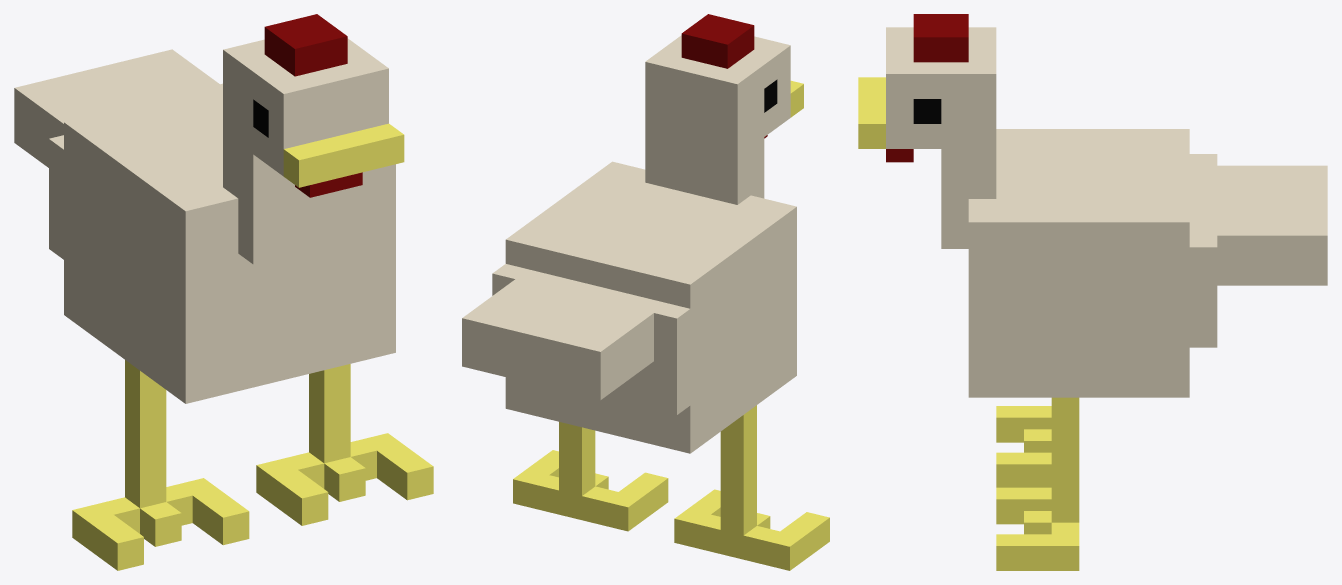
The model's file is chicken.obj.
3 views of the same model, side by side, from view 1: azimuth 30°, elevation 25°; view 2: azimuth 150°, elevation 25°; view 3: azimuth 270°, elevation 25° (orthographic). The views are drawn at different scales.
Bounding box in the file's own units: 1.2 × 1.9 × 1.7.
